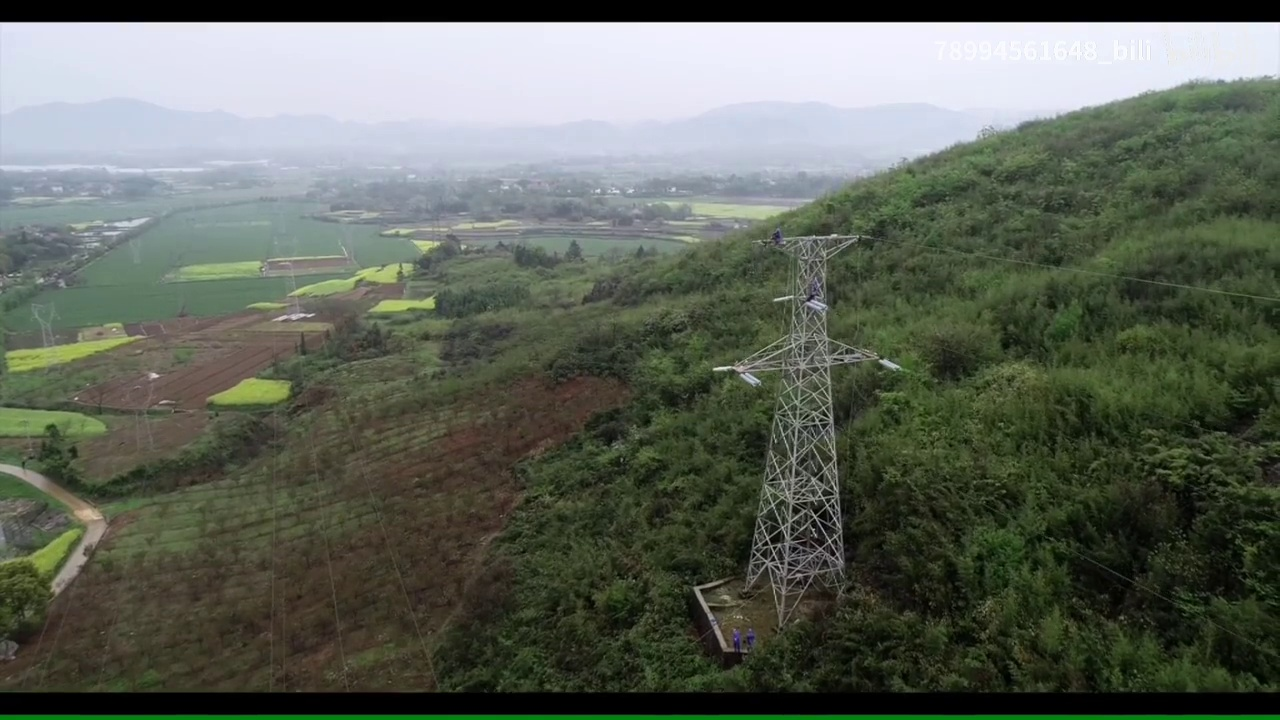tower_body: (734, 222, 876, 632)
tower_foot: (744, 540, 858, 628)
tower_head: (746, 228, 871, 264)
